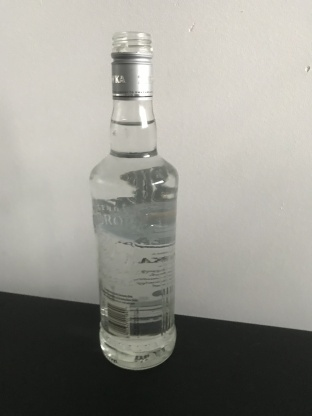nakretka: (108, 29, 155, 101)
